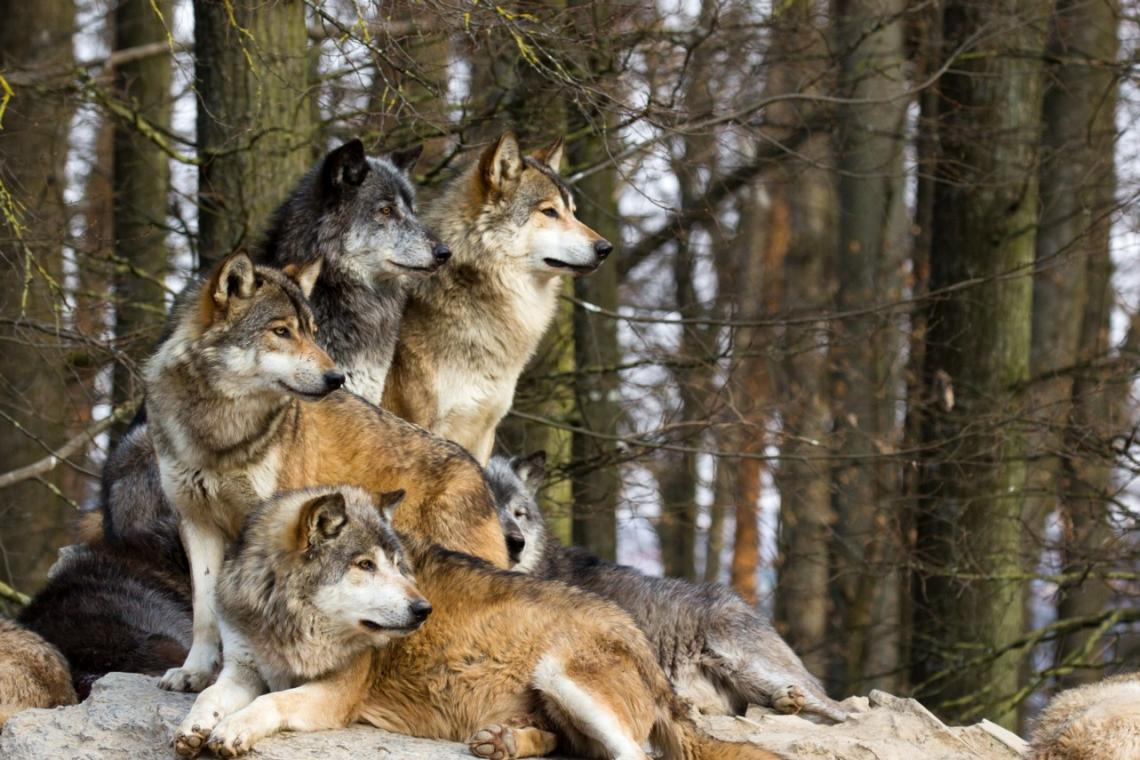Lobo: (200, 495, 660, 760), (99, 267, 381, 516), (422, 133, 630, 454), (248, 125, 465, 329)
